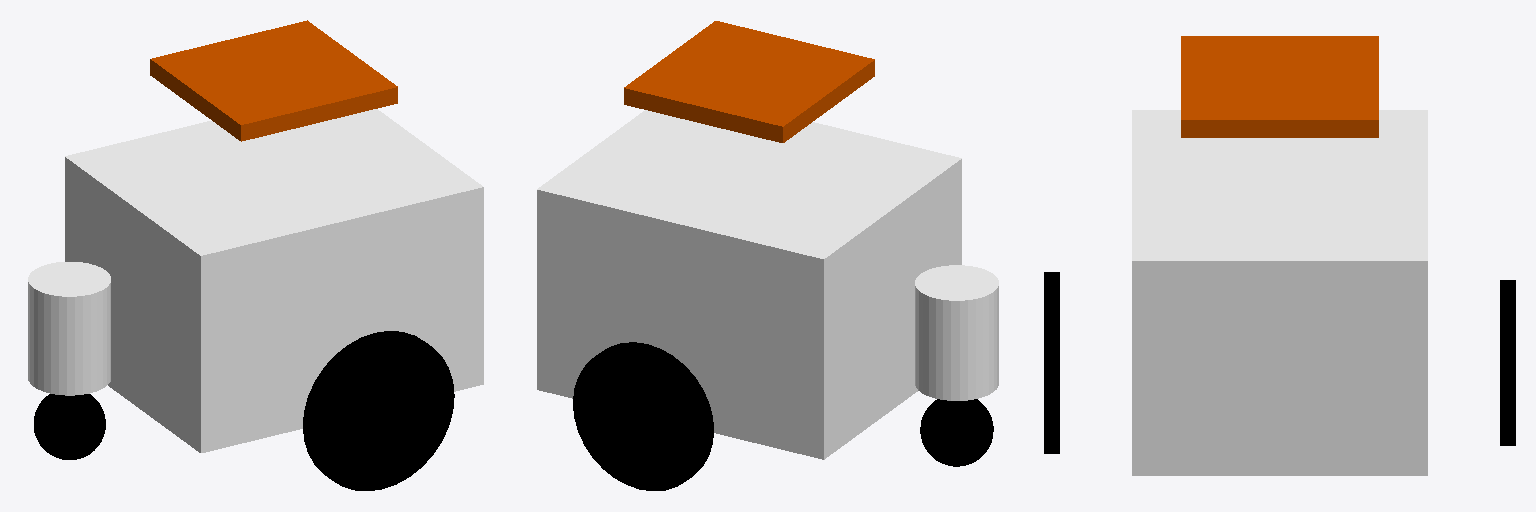
robot.urdf — test_robot:
<robot name="test_robot">
    <link name="base_link">
        <visual>
            <geometry>
                <box size="0.18 0.15 0.12"/>
            </geometry>
            <origin rpy="0 0 0" xyz="0 0 0.085"/>
            <material name="white">
                <color rgba="1 1 1 1"/>
            </material>
        </visual>
        <collision>
            <geometry>
                <box size="0.16 0.16 0.12"/>
            </geometry>
            <origin rpy="0 0 0" xyz="0 0 0.085"/>
        </collision>
    </link>

    <link name="left_wheel">
        <visual>
            <geometry>
                <cylinder length="0.008" radius="0.042"/>
            </geometry>
            <origin rpy="0 0 0" xyz="0 0 0"/>
            <material name="black">
                <color rgba="0 0 0 1"/>
            </material>
        </visual>
        <collision>
            <geometry>
                <cylinder length="0.008" radius="0.042"/>
            </geometry>
            <origin rpy="0 0 0" xyz="0 0 0"/>
        </collision>
    </link>

    <joint name="base_to_left_wheel" type="continuous">
        <parent link="base_link"/>
        <child link="left_wheel"/>
        <origin xyz="0 0.115 0.046" rpy="1.5708 0 0"/>
        <axis xyz="0 0 1"/>
    </joint>

    <link name="right_wheel">
        <visual>
            <geometry>
                <cylinder length="0.008" radius="0.046"/>
            </geometry>
            <origin rpy="0 0 0" xyz="0 0 0"/>
            <material name="black">
                <color rgba="0 0 0 1"/>
            </material>
        </visual>
        <collision>
            <geometry>
                <cylinder length="0.008" radius="0.046"/>
            </geometry>
            <origin rpy="0 0 0" xyz="0 0 0"/>
        </collision>
    </link>

    <joint name="base_to_right_wheel" type="continuous">
        <parent link="base_link"/>
        <child link="right_wheel"/>
        <origin xyz="0 -0.115 0.046" rpy="-1.5708 0 0"/>
        <axis xyz="0 0 1"/>
    </joint>

    <link name="front_wheel_attach">
        <visual>
            <geometry>
                <cylinder length="0.060" radius="0.023"/>
            </geometry>
            <origin rpy="0 0 0" xyz="-0.13 0 0.08"/>
            <material name="white">
                <color rgba="1 1 1 1"/>
            </material>
        </visual>
    </link>

    <joint name="base_to_front_attach" type="fixed">
        <parent link="base_link"/>
        <child link="front_wheel_attach"/>
        <origin xyz="0 0 0" rpy="0 0 0"/>
    </joint>

    <link name="front_wheel">
        <visual>
            <geometry>
                <sphere radius="0.020"/>
            </geometry>
            <origin rpy="1.578 0 0" xyz="0 0 0"/>
            <material name="black">
                <color rgba="0 0 0 1"/>
            </material>
        </visual>
        <collision>
            <geometry>
                <sphere radius="0.020"/>
            </geometry>
            <origin rpy="1.578 0 0" xyz="0 0 0"/>
        </collision>
    </link>

    <joint name="base_to_front_wheel" type="fixed">
        <parent link="base_link"/>
        <child link="front_wheel"/>
        <origin xyz="-0.13 0 0.022" rpy="0 0 0"/>
    </joint>

    <link name="aruco_tag">
        <visual>
            <geometry>
                <mesh filename="aruco_0.obj"/>
            </geometry>
        </visual>
    </link>

    <joint name="base_to_aruco_tag" type="fixed">
        <parent link="base_link"/>
        <child link="aruco_tag"/>
        <origin xyz="0 0 0.2" rpy="0 0 0"/>
    </joint>
</robot>

--- What the picture shows (computed from the rendered views, not written in the file) ---
The picture shows the robot from 3 angles, left to right: view 1: azimuth 30°, elevation 25°; view 2: azimuth 150°, elevation 25°; view 3: azimuth 270°, elevation 25°; orthographic projection.
Model test_robot with 6 links and 5 joints (2 continuous, 3 fixed), rooted at base_link, posed every joint at zero.
Visible links, largest first — view 1: base_link, right_wheel, aruco_tag, front_wheel_attach, front_wheel; view 2: base_link, aruco_tag, left_wheel, front_wheel_attach, front_wheel; view 3: base_link, aruco_tag, right_wheel, left_wheel.
Boxes of the visible links, x1,y1,x2,y2 form: base_link: (65, 109, 483, 452); right_wheel: (303, 331, 454, 490); aruco_tag: (150, 20, 397, 141); front_wheel_attach: (28, 262, 110, 395); front_wheel: (34, 394, 105, 459); base_link: (537, 110, 961, 459); aruco_tag: (624, 21, 874, 142); left_wheel: (573, 342, 713, 490); front_wheel_attach: (915, 265, 998, 400); front_wheel: (920, 399, 993, 466); base_link: (1132, 110, 1427, 475); aruco_tag: (1181, 36, 1378, 137); right_wheel: (1044, 272, 1059, 453); left_wheel: (1500, 280, 1515, 445).
Size in the robot's own frame: 0.243 by 0.238 by 0.205 metres.
1 mesh visuals loaded from 1 distinct referenced files (1 OBJ).